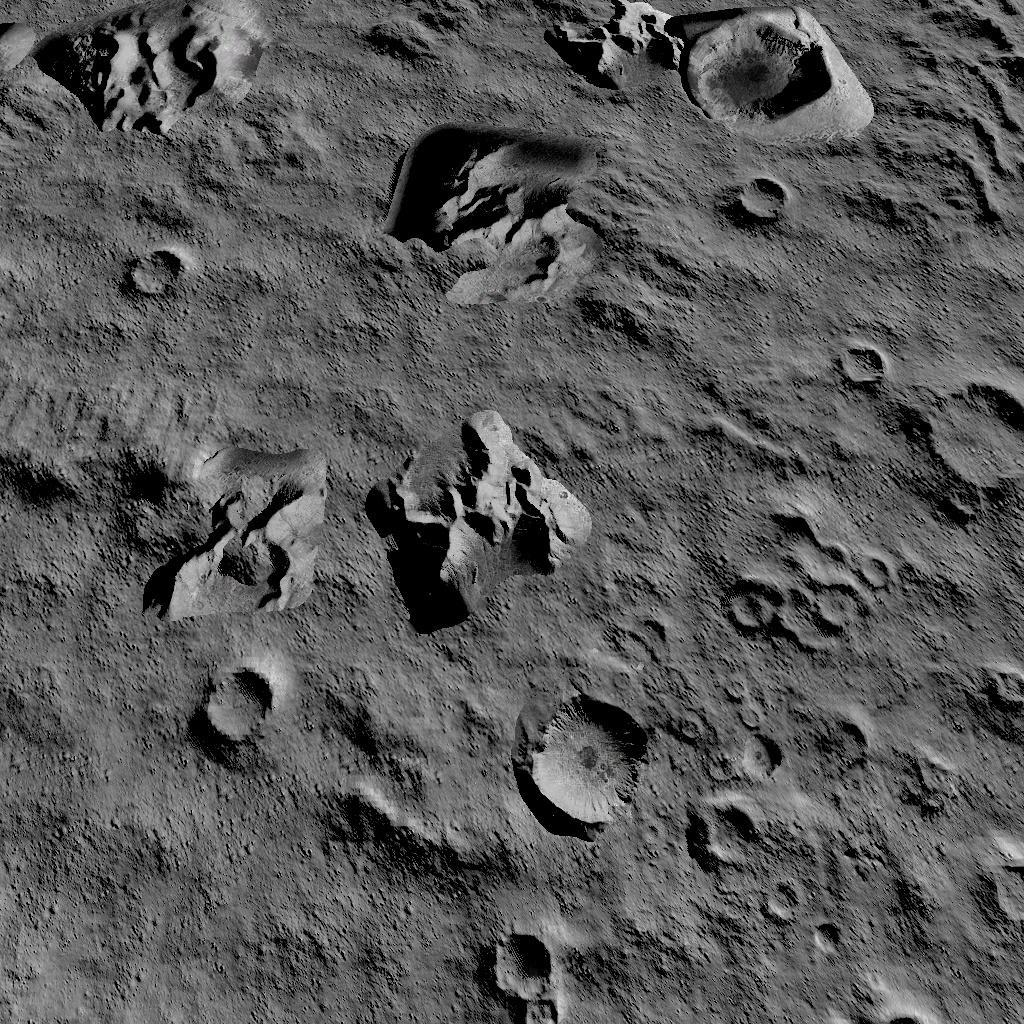Boulders: (0, 380, 328, 613), (374, 0, 868, 135), (386, 140, 688, 348), (366, 412, 593, 628), (0, 0, 271, 155)
Crater: (724, 505, 896, 640), (518, 692, 653, 830), (923, 365, 1024, 530), (488, 930, 576, 1024), (196, 662, 280, 752), (121, 252, 183, 298), (834, 345, 890, 395), (731, 178, 793, 222)
Plan surface: (0, 628, 183, 1024), (200, 872, 470, 1024), (198, 200, 373, 368), (696, 790, 765, 873)
